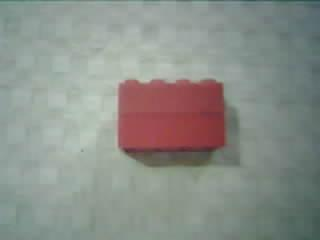lego: (115, 78, 227, 152)
